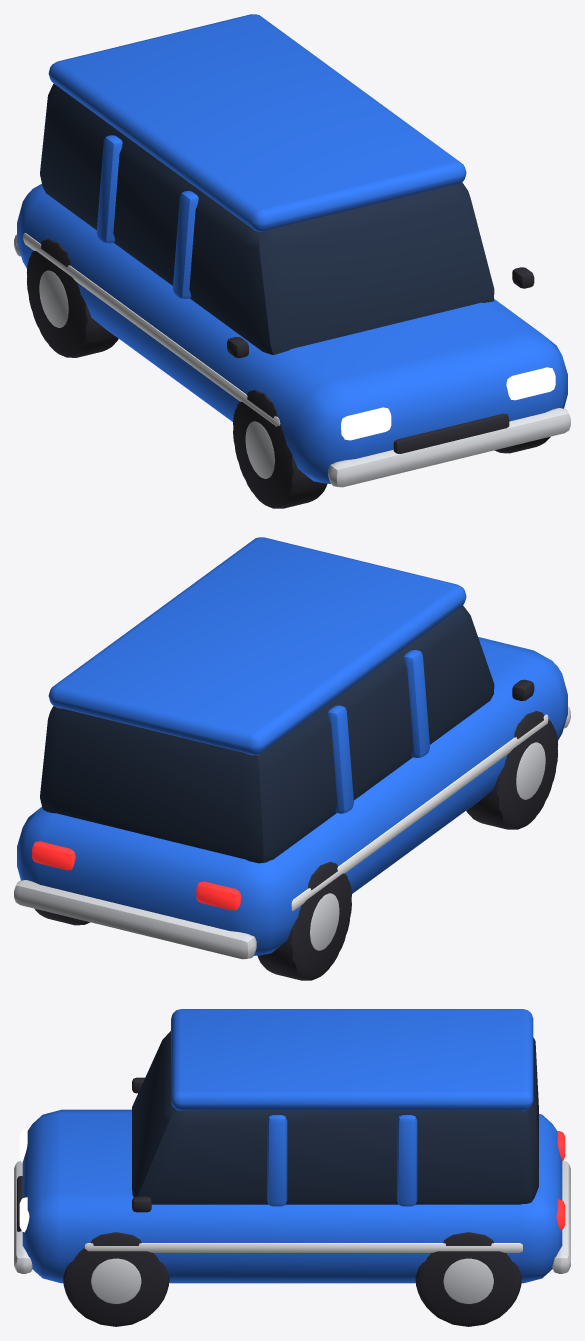
Rendered from ToyMinivan.fbx.
3 views of the same model, one above another, from view 1: azimuth 30°, elevation 25°; view 2: azimuth 150°, elevation 25°; view 3: azimuth 270°, elevation 25° (orthographic). The views are drawn at different scales.
Visible parts, largest first — view 1: ToyMinivan; view 2: ToyMinivan; view 3: ToyMinivan.
Boxes of the visible parts, bbox=[...] form: ToyMinivan: bbox=[14, 14, 570, 508]; ToyMinivan: bbox=[14, 537, 570, 980]; ToyMinivan: bbox=[14, 1009, 570, 1326].
Size of the model in its own units: 1.04 by 0.8648 by 1.96.
